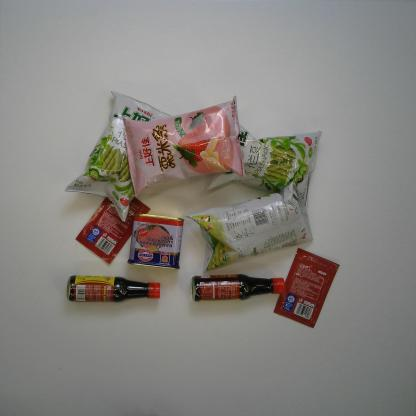Canned Food: (126, 212, 185, 271)
Puffed Food: (63, 90, 174, 222), (122, 95, 246, 198), (184, 180, 314, 275), (203, 121, 322, 209)
Seasoner: (272, 248, 340, 330), (74, 195, 152, 266), (65, 274, 162, 304), (190, 273, 286, 303)
